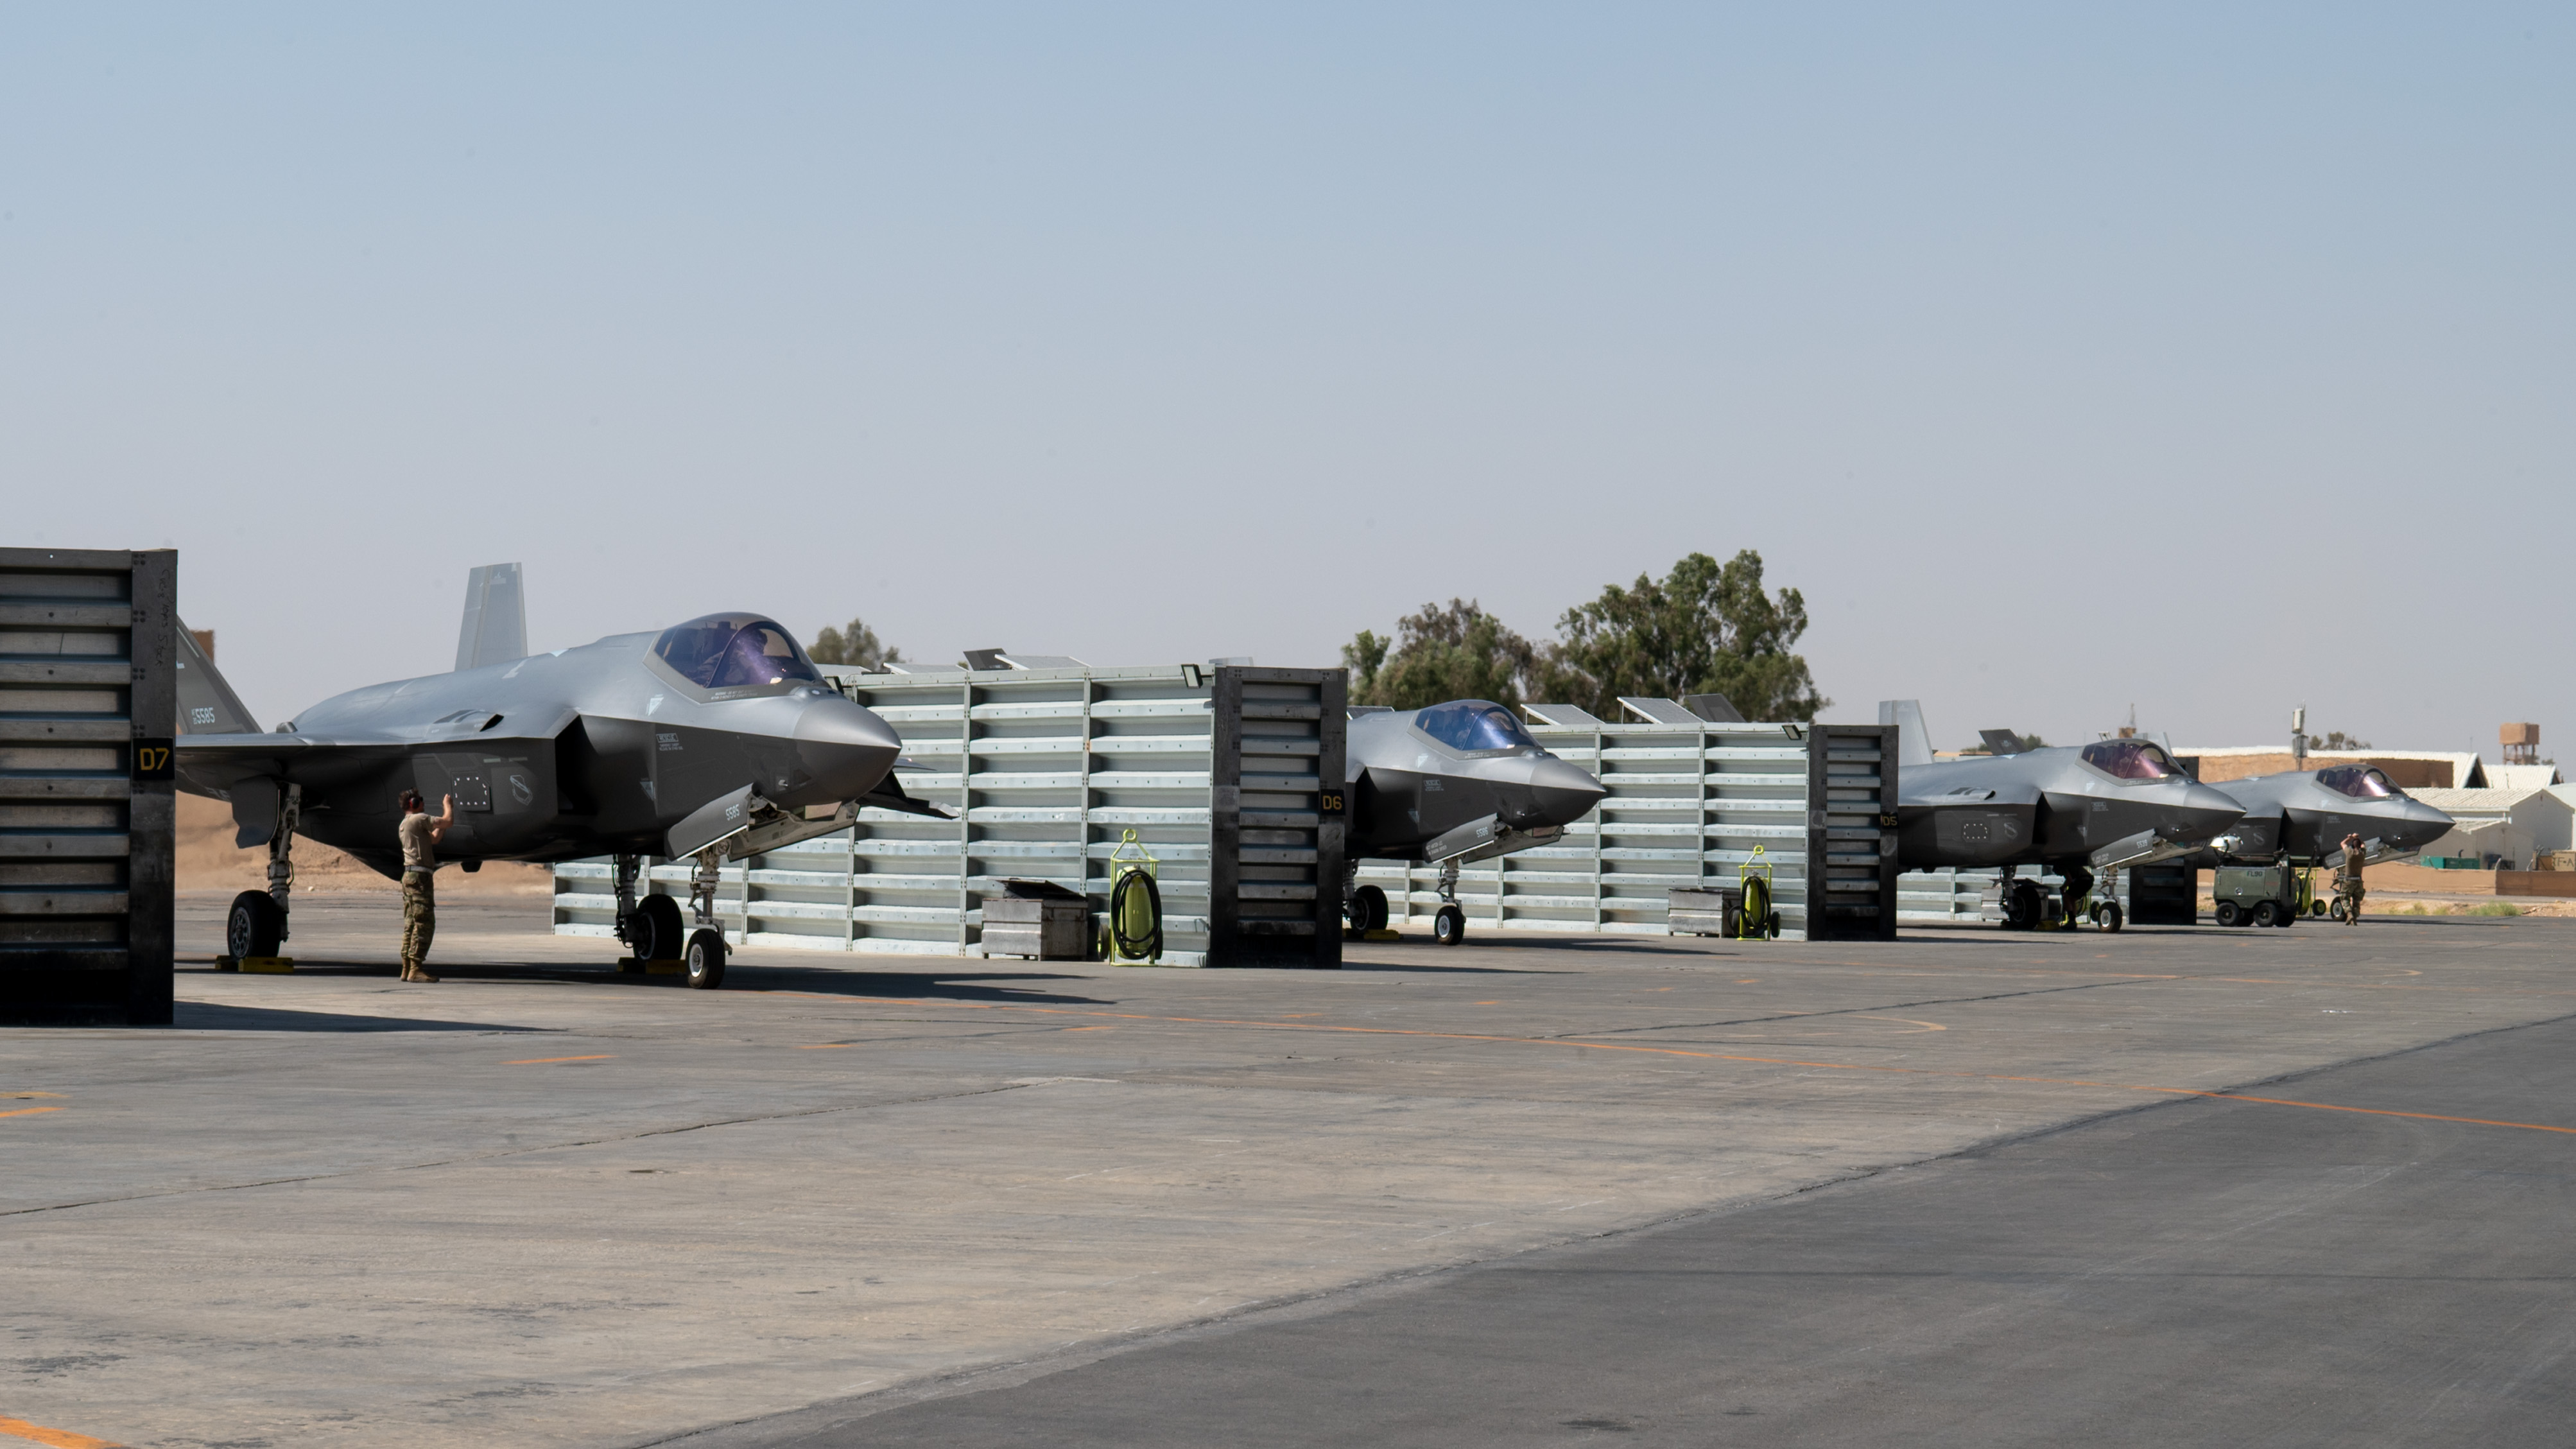airplane: (119, 548, 960, 989), (962, 648, 1607, 946), (1684, 693, 2247, 933), (1978, 729, 2457, 921)
